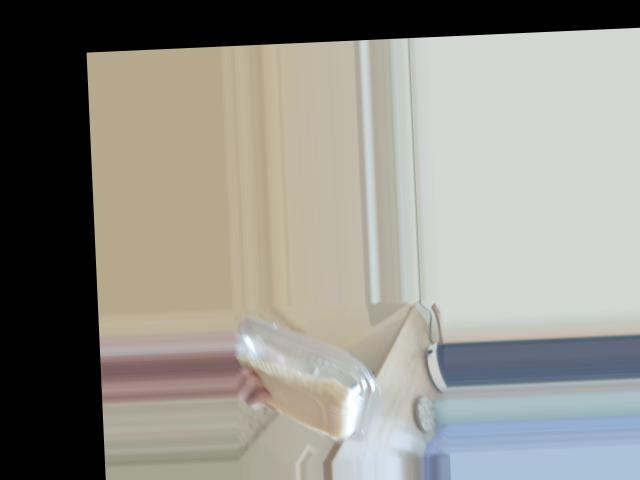cheese: (283, 334, 366, 427)
